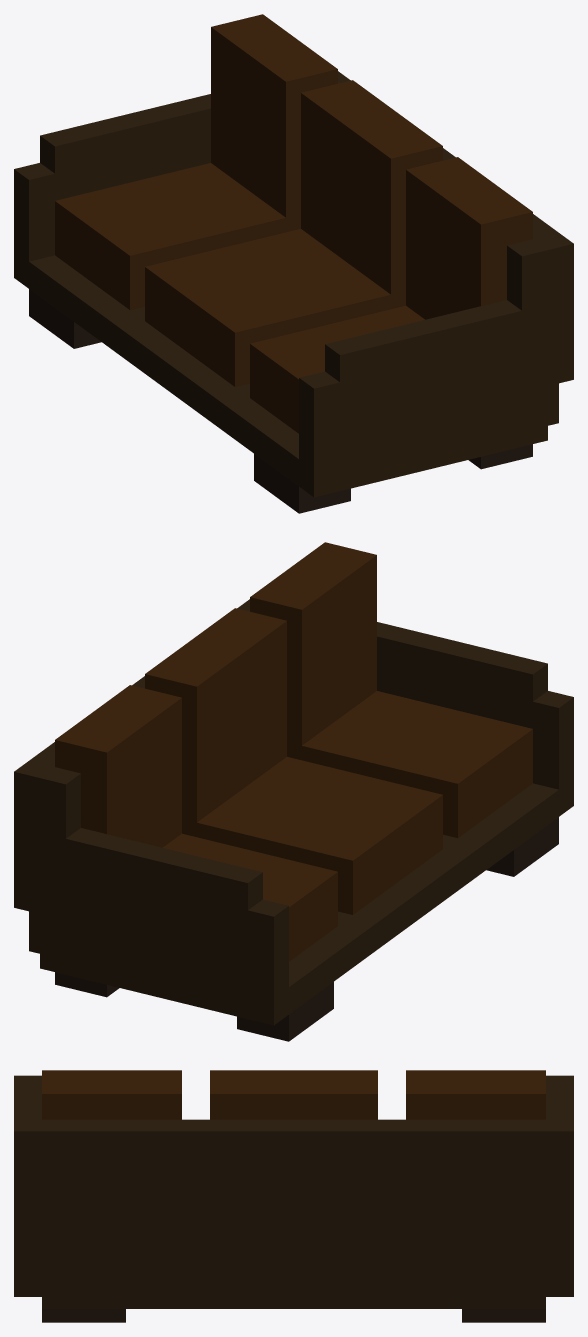
Rendered from Cannapé(Factory-New).obj.
3 renders of one model, top to bottom at view 1: azimuth 30°, elevation 25°; view 2: azimuth 150°, elevation 25°; view 3: azimuth 270°, elevation 25°, orthographic. The views are drawn at different scales.
Size of the model in its own units: 1 by 0.9 by 2.
Materials: 1 (1 with a texture image).
